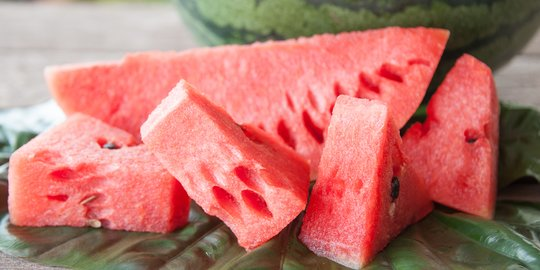Semangka: (170, 65, 314, 249), (6, 119, 172, 260), (285, 106, 410, 249), (386, 59, 496, 217)
